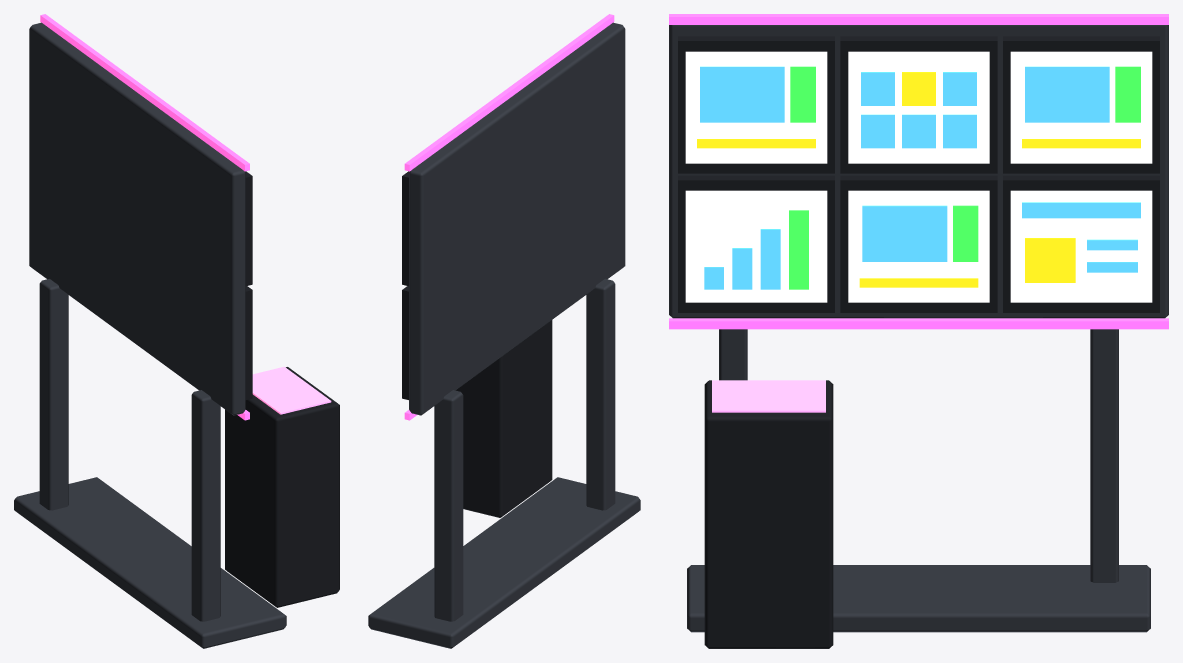
The model's file is station_intake_ausstattung_1_3.glb.
3 renders of one model, left to right at view 1: azimuth 30°, elevation 25°; view 2: azimuth 150°, elevation 25°; view 3: azimuth 270°, elevation 25°, orthographic. The views are drawn at different scales.
Parts seen in each view (by area): view 1: station_intake_ausstattung_1_3; view 2: station_intake_ausstattung_1_3; view 3: station_intake_ausstattung_1_3.
Boxes of the visible parts, bbox=[...] form: station_intake_ausstattung_1_3: bbox=[14, 14, 339, 648]; station_intake_ausstattung_1_3: bbox=[368, 14, 640, 648]; station_intake_ausstattung_1_3: bbox=[669, 14, 1168, 648].
Bounding box in the file's own units: 0.58 × 1.82 × 1.4.
